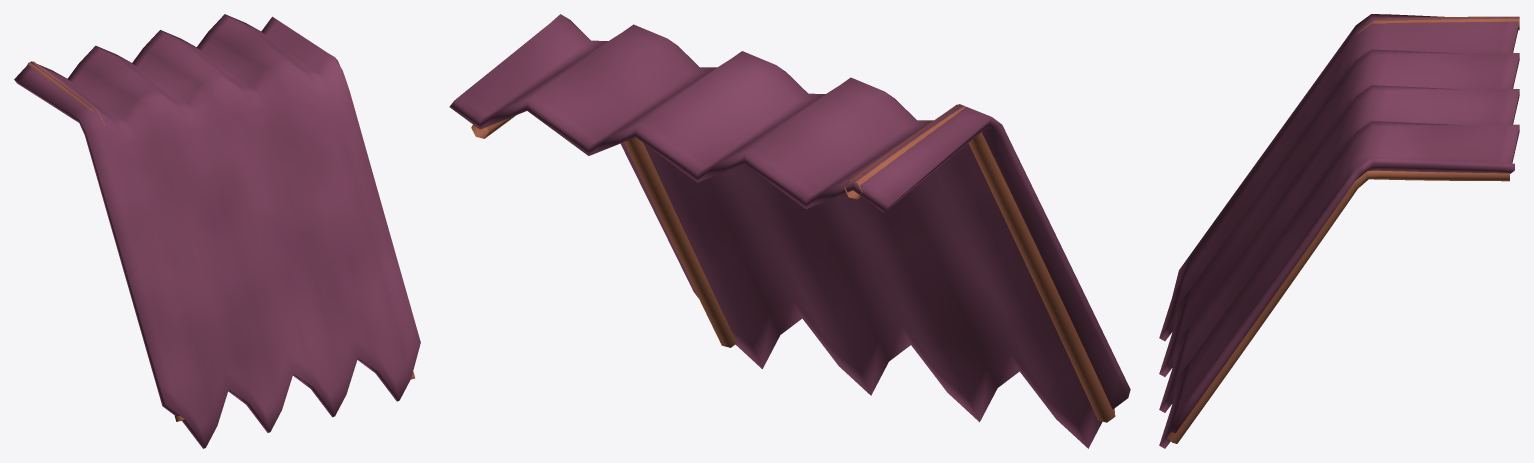
Rendered from 24_Basket_Cloth.fbx.
3 renders of one model, left to right at view 1: azimuth 30°, elevation 25°; view 2: azimuth 150°, elevation 25°; view 3: azimuth 270°, elevation 25°, orthographic. The views are drawn at different scales.
Visible parts, largest first — view 1: 24_Basket_Cloth; view 2: 24_Basket_Cloth; view 3: 24_Basket_Cloth.
Boxes of the visible parts, x1,y1,x2,y2 form: 24_Basket_Cloth: (14, 14, 420, 448); 24_Basket_Cloth: (449, 14, 1130, 448); 24_Basket_Cloth: (1159, 14, 1519, 448).
Size of the model in its own units: 34.38 by 34.89 by 36.16.
1 material, 1 textured.
